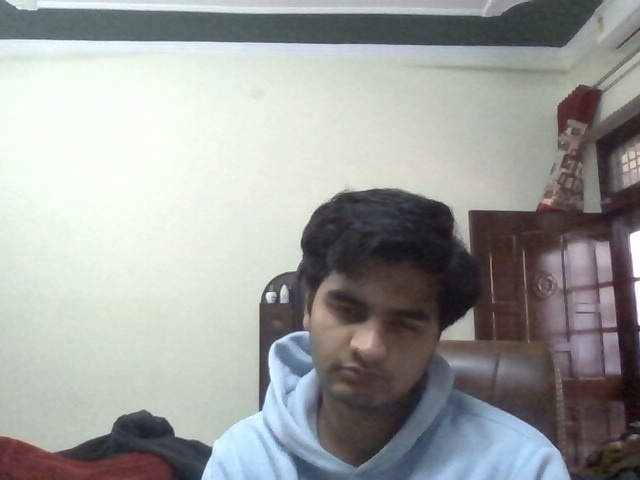sadness: (327, 274, 426, 400)
